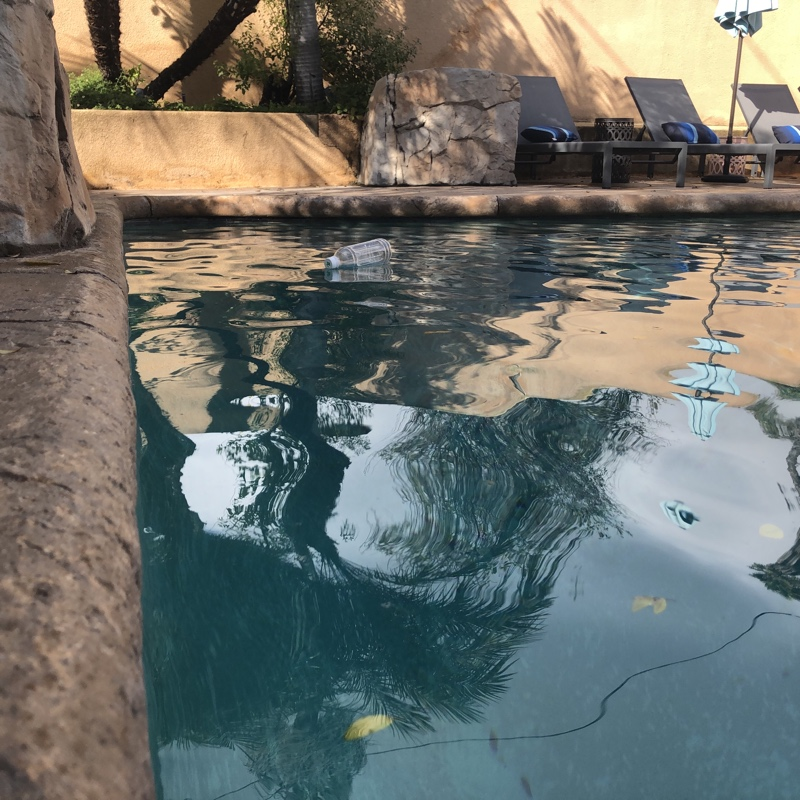Plastic Bottle: (322, 236, 398, 272)
